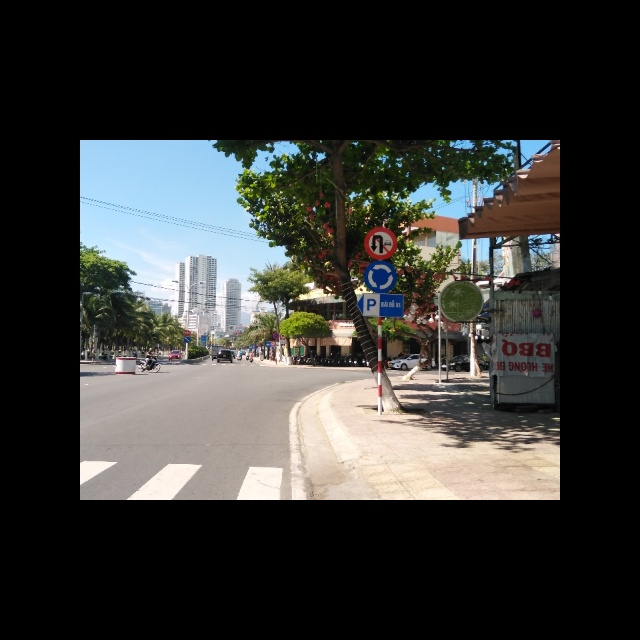Cấm xe ô tô quay đầu: (364, 226, 398, 261)
Nơi giao nhau chạy theo vòng xuyến: (364, 261, 396, 292)
Nơi đỗ xe: (354, 293, 403, 319)
